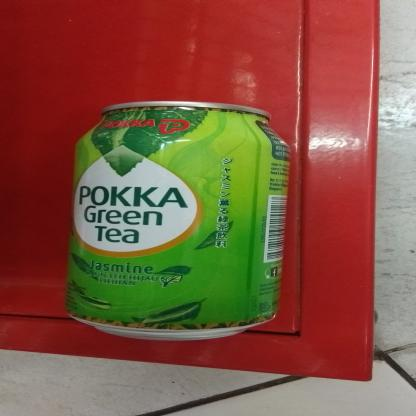mouse: (59, 99, 295, 342)
